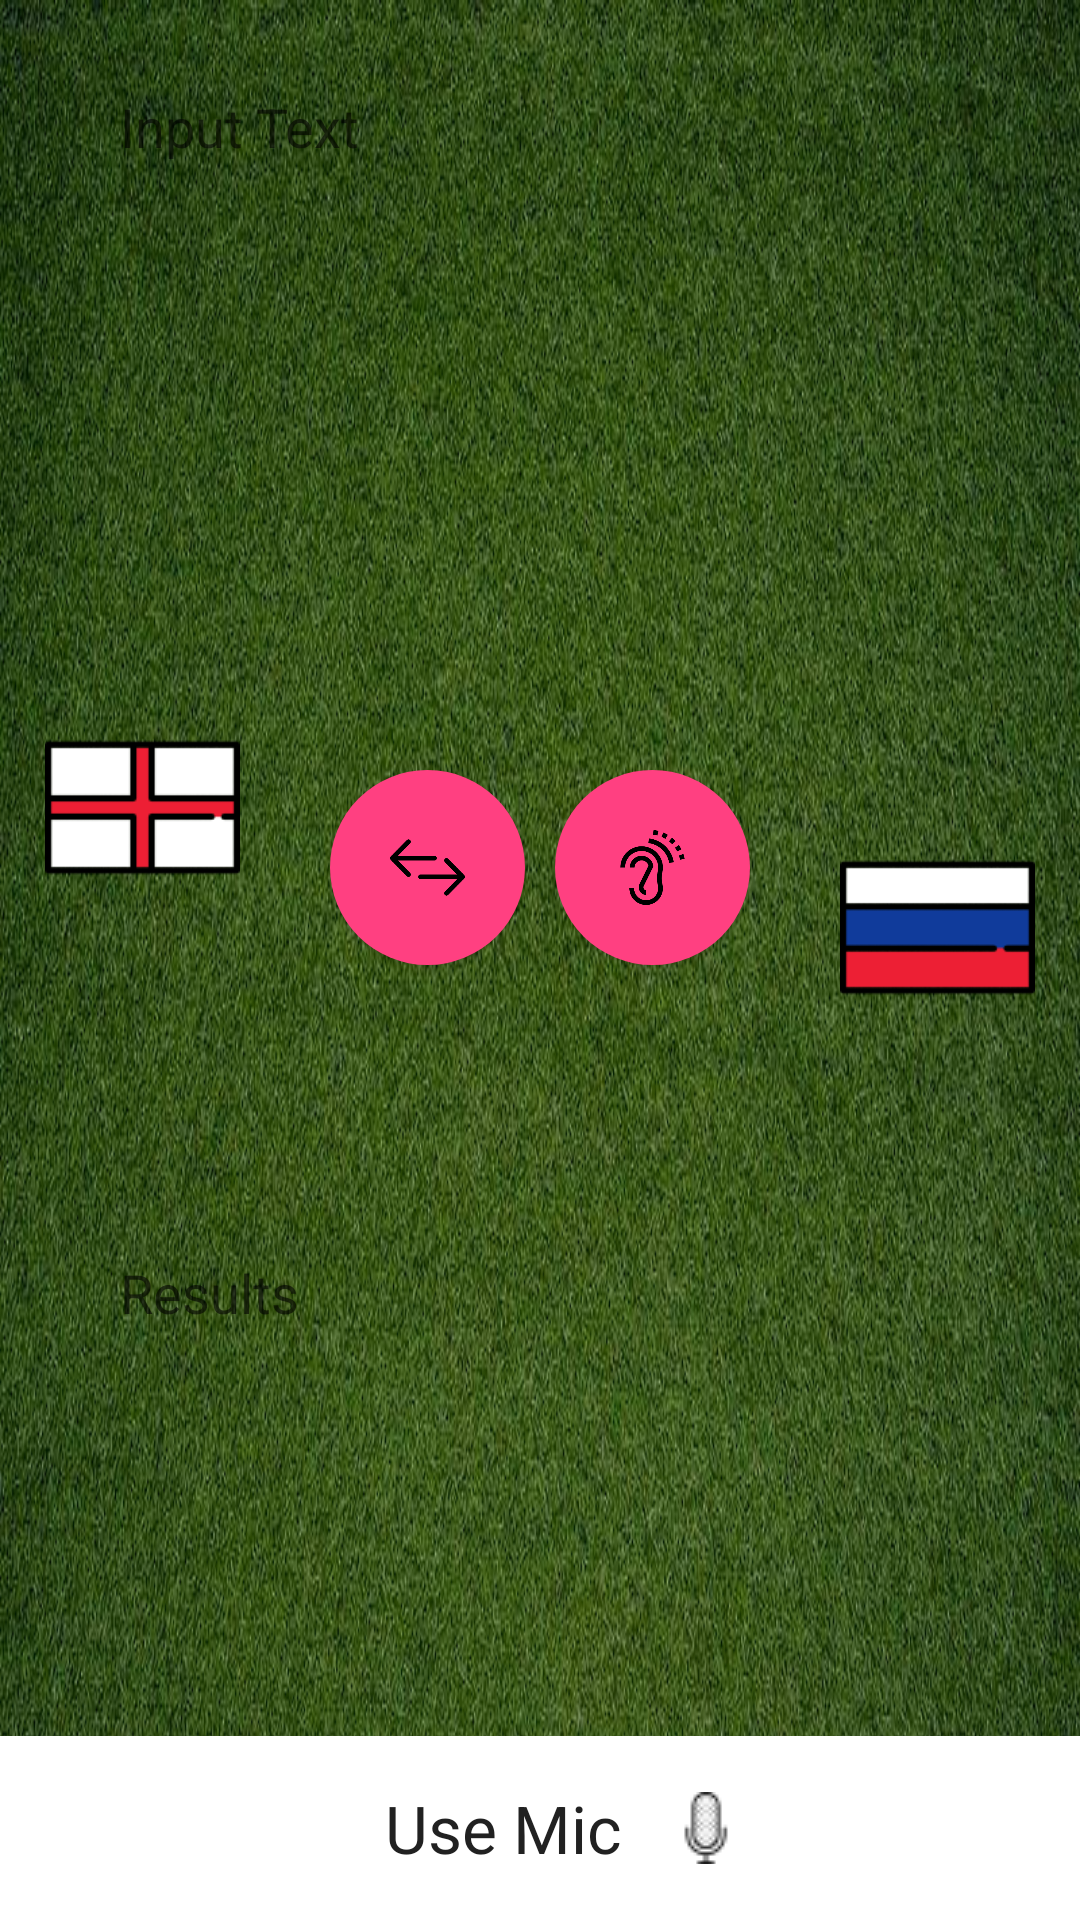

Point at icon controls on the screen. Image size 1080px×1920px, points as (x=x, y=y).
england: (x=142, y=807)
russia: (x=937, y=927)
